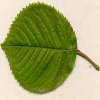Cherry leaf: (0, 2, 86, 97)
